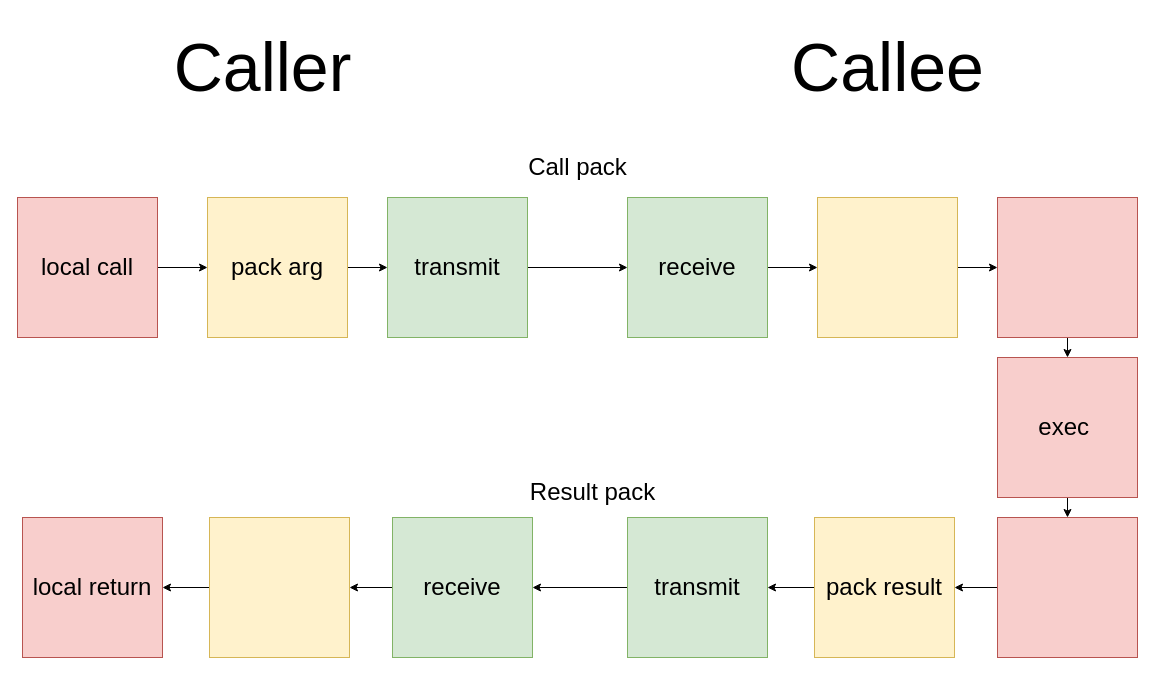
Image size: 1155x675. Some labels were removed from this diagram. Here are the shapes that lost their labels. From the top down, the centre of each, then its label:
At (887,267): "unpack arg".
At (1067,267): "call".
At (279,587): "unpack result".
At (1067,587): "return".
